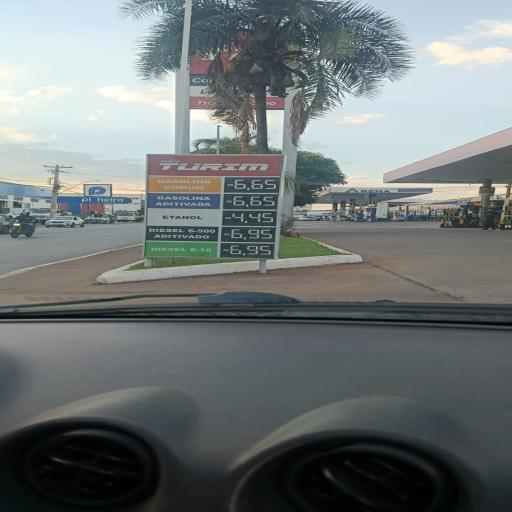ETANOL: (150, 210, 216, 224)
GASOLINA AD: (148, 194, 220, 207)
GASOLINA C: (148, 177, 222, 191)
S10: (146, 243, 215, 255)
S500: (144, 226, 218, 241)
placa: (144, 156, 284, 260)
preco: (232, 177, 278, 193), (231, 194, 276, 208), (230, 211, 275, 225), (229, 228, 274, 242), (228, 245, 274, 256)
